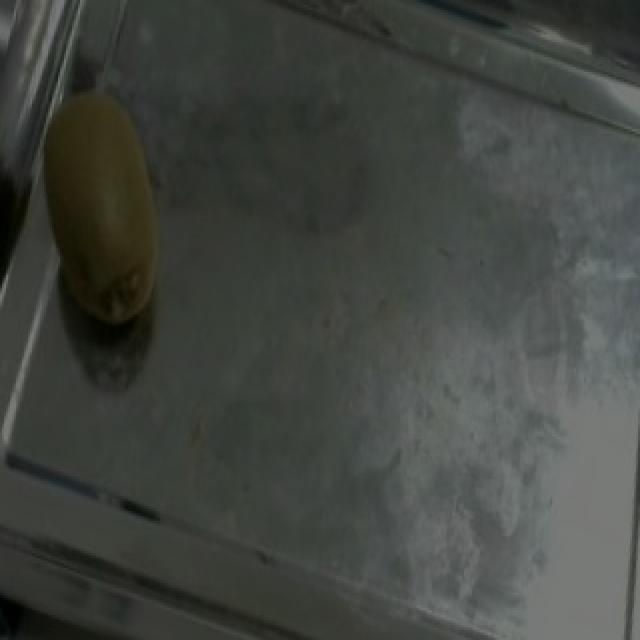Fruit: (6, 62, 204, 362)
